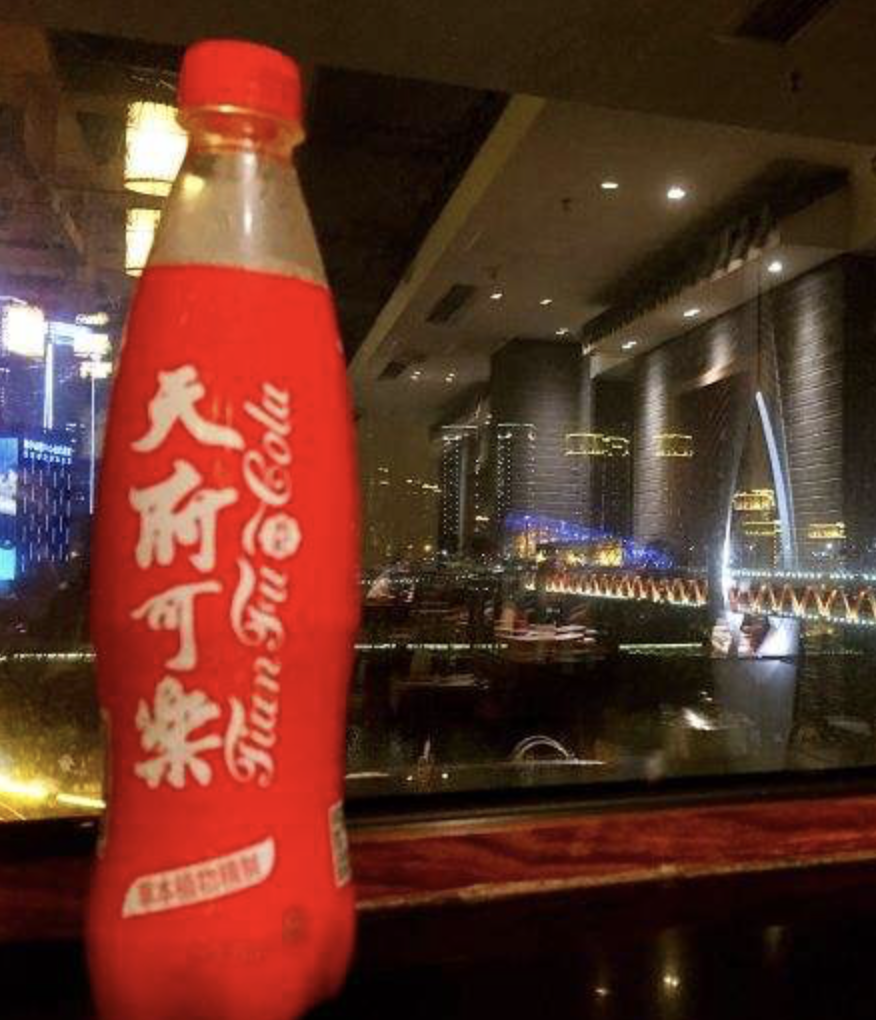天府可乐: (69, 21, 377, 994)
